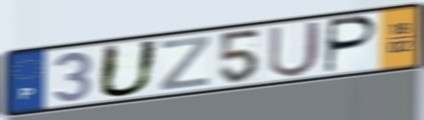3: (51, 48, 96, 103)
5: (217, 26, 262, 87)
P: (322, 14, 380, 76)
U: (95, 38, 163, 100), (267, 19, 324, 79)
Z: (157, 34, 212, 92)
